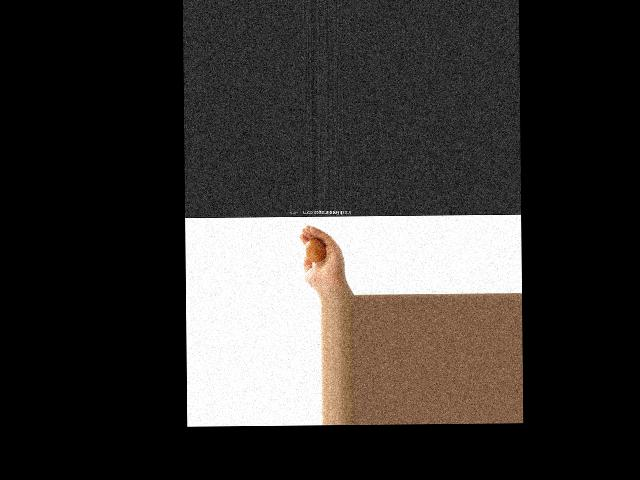egg: (305, 236, 325, 262)
